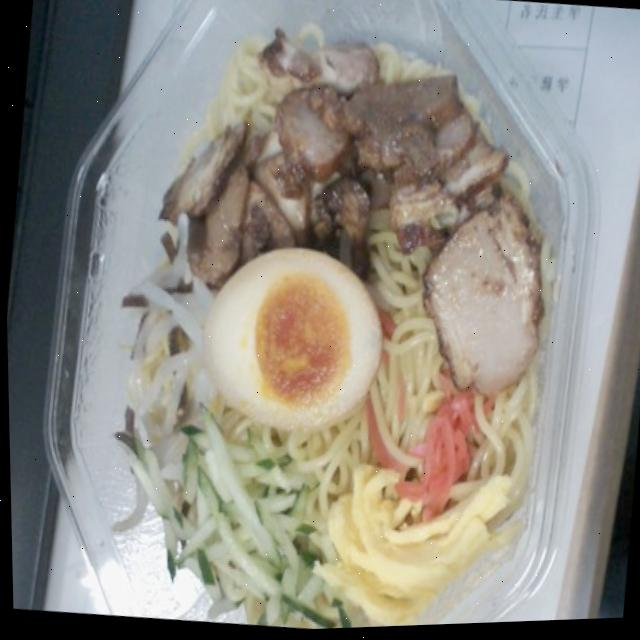面条主食: (1, 0, 622, 640)
